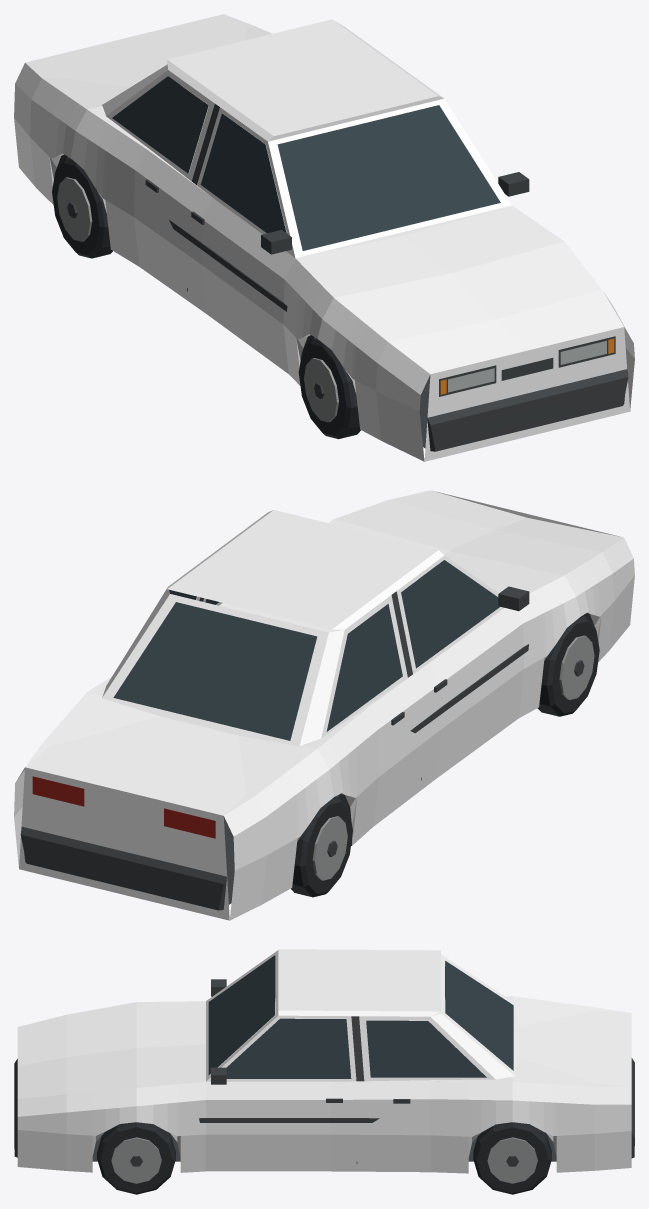
Rendered from hoshino_sekirei_99.glb.
3 views of the same model, one above another, from view 1: azimuth 30°, elevation 25°; view 2: azimuth 150°, elevation 25°; view 3: azimuth 270°, elevation 25° (orthographic). The views are drawn at different scales.
Parts seen in each view (by area): view 1: hoshino_sekirei_99; view 2: hoshino_sekirei_99; view 3: hoshino_sekirei_99.
Boxes of the visible parts, x1=… form: hoshino_sekirei_99: x1=14, y1=14, x2=634, y2=461; hoshino_sekirei_99: x1=14, y1=490, x2=634, y2=920; hoshino_sekirei_99: x1=14, y1=949, x2=634, y2=1194.
Size of the model in its own units: 1.78 by 1.43 by 4.77.
8 materials, 1 textured.
